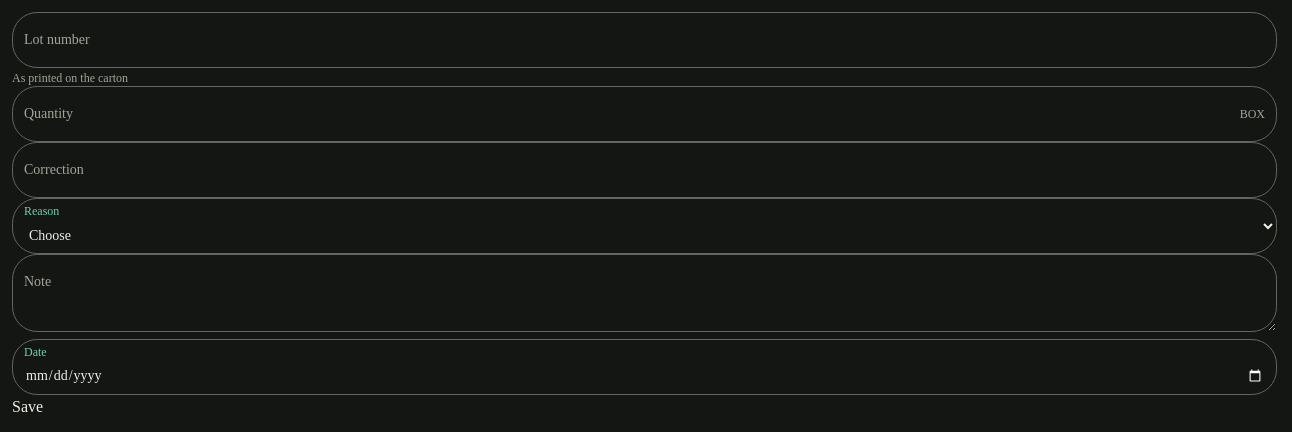
Scenario: number fields › reports the cleaned value to the form as it is typed
The image size is (1292, 432).
Type "12a" into the field labelled "Quantity".
click(644, 114); type("12a")  # box top-left (12, 86), bottom-right (1277, 142)
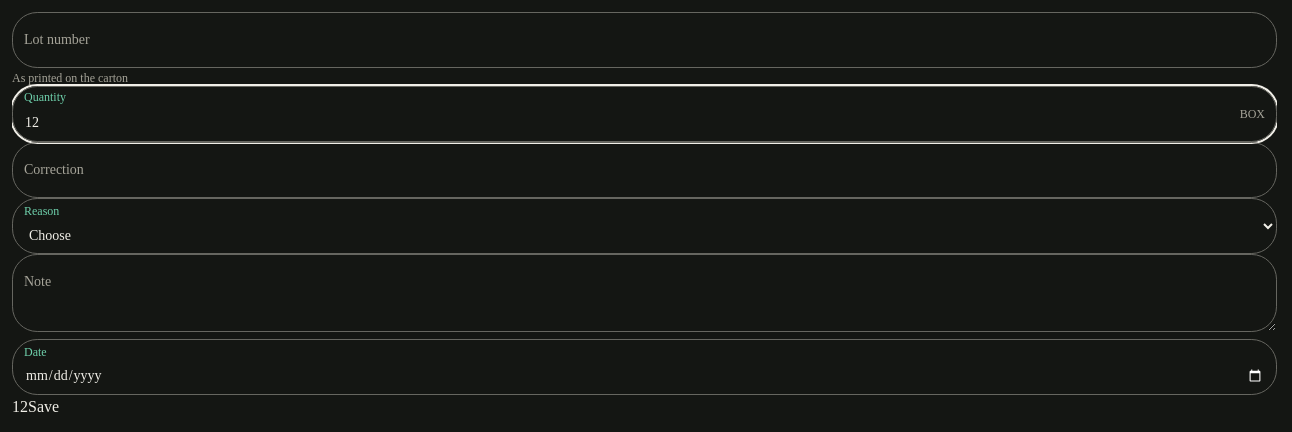
Result: the text with test id "live-qty" reads "12" at top-left (12, 398), bottom-right (28, 415)
